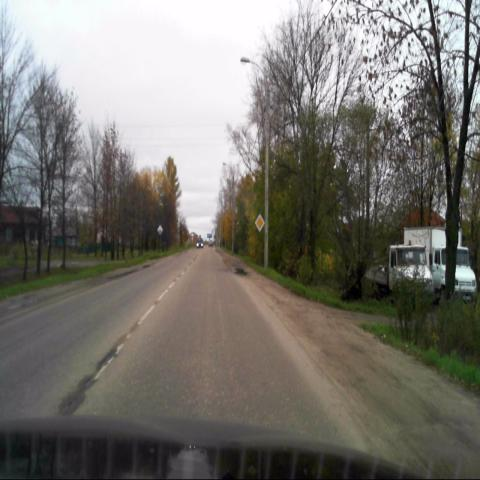2_1: (255, 213, 264, 232)
